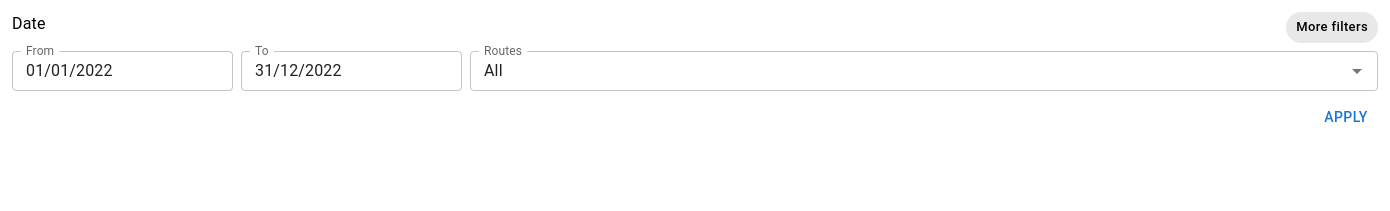
Test: Embarks filters › should hide extend filters after two clicks
Click the button "More filters" at (1332, 27), box [1286,12,1378,43]
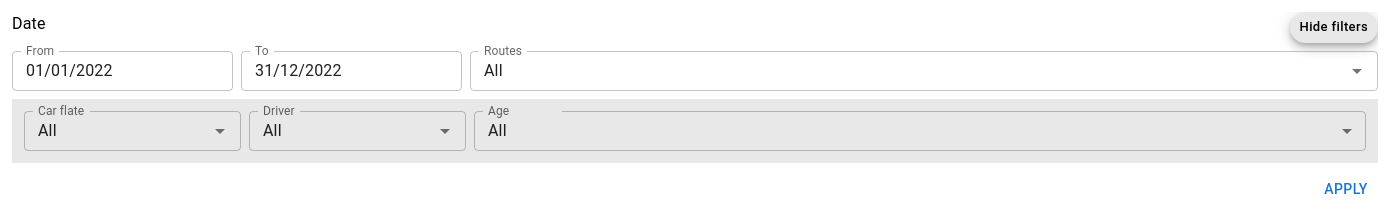
Now the element with test id "filter-expended" is shown, box [12,99,1378,163]
Click the button "More filters" at (1334, 27), box [1290,12,1378,43]
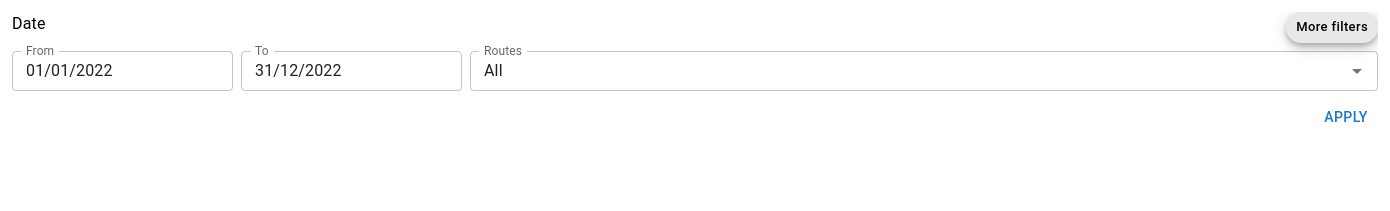
Now the element with test id "filter-expended" is gone
